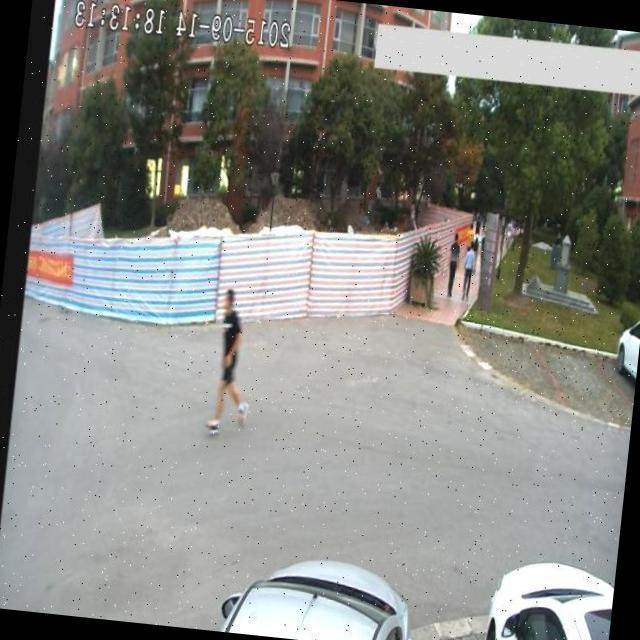person: (198, 278, 264, 446), (440, 227, 465, 302), (459, 242, 481, 300)
